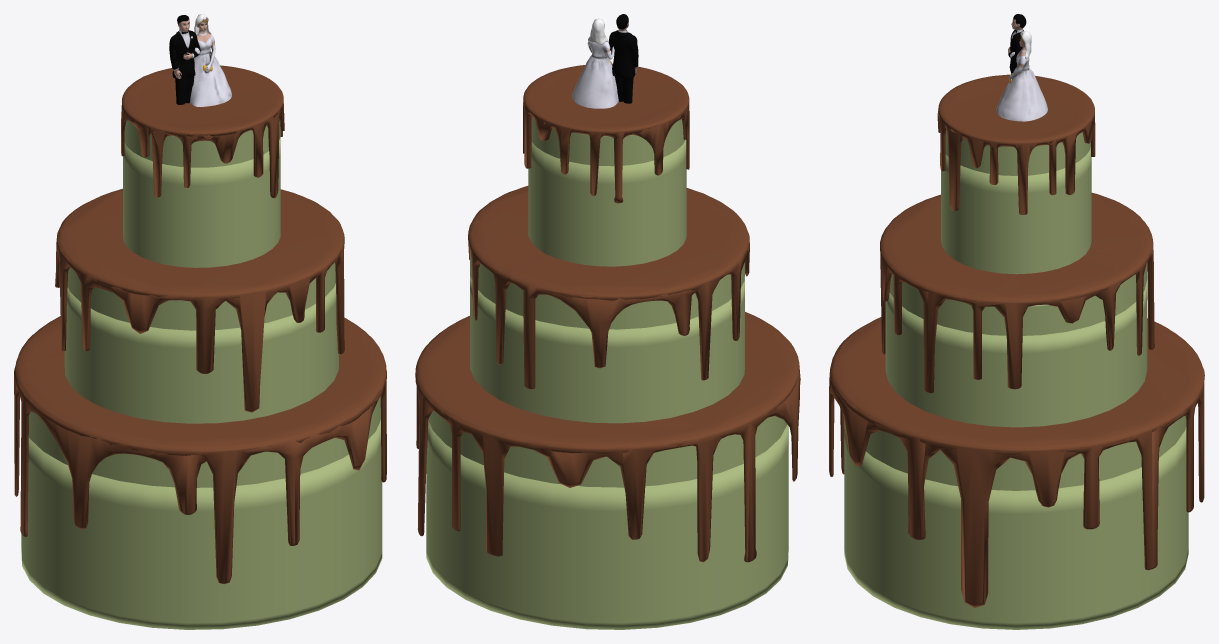
Rendered from 3-tier-pistage-ganache-bridegroom.glb.
3 renders of one model, left to right at view 1: azimuth 30°, elevation 25°; view 2: azimuth 150°, elevation 25°; view 3: azimuth 270°, elevation 25°, orthographic. The views are drawn at different scales.
Parts seen in each view (by area): view 1: Cylinder.022, tHE ICING.005, Cylinder.014, tHE ICING.002, Cylinder.021, tHE ICING.001, 13501_Cake_Topper_Bride_Groom_v1_L1.002; view 2: Cylinder.022, tHE ICING.005, Cylinder.014, tHE ICING.002, Cylinder.021, tHE ICING.001, 13501_Cake_Topper_Bride_Groom_v1_L1.002; view 3: Cylinder.022, tHE ICING.005, Cylinder.014, tHE ICING.002, Cylinder.021, tHE ICING.001, 13501_Cake_Topper_Bride_Groom_v1_L1.002.
Boxes of the visible parts, left/top/right/bottom form: Cylinder.022: left=21, top=396, right=382, bottom=629; tHE ICING.005: left=14, top=316, right=386, bottom=584; Cylinder.014: left=64, top=262, right=338, bottom=423; tHE ICING.002: left=55, top=188, right=344, bottom=412; Cylinder.021: left=123, top=119, right=280, bottom=267; tHE ICING.001: left=121, top=65, right=284, bottom=198; 13501_Cake_Topper_Bride_Groom_v1_L1.002: left=169, top=14, right=231, bottom=106; Cylinder.022: left=426, top=411, right=788, bottom=629; tHE ICING.005: left=415, top=312, right=800, bottom=562; Cylinder.014: left=470, top=249, right=744, bottom=423; tHE ICING.002: left=468, top=186, right=749, bottom=389; Cylinder.021: left=528, top=116, right=686, bottom=266; tHE ICING.001: left=523, top=64, right=689, bottom=203; 13501_Cake_Topper_Bride_Groom_v1_L1.002: left=572, top=14, right=638, bottom=108; Cylinder.022: left=844, top=416, right=1188, bottom=629; tHE ICING.005: left=829, top=317, right=1204, bottom=607; Cylinder.014: left=885, top=262, right=1147, bottom=427; tHE ICING.002: left=880, top=192, right=1154, bottom=393; Cylinder.021: left=941, top=130, right=1091, bottom=274; tHE ICING.001: left=937, top=74, right=1095, bottom=214; 13501_Cake_Topper_Bride_Groom_v1_L1.002: left=996, top=14, right=1047, bottom=121.
Bounding box in the file's own units: 4.33 × 6.91 × 4.43.
Materials: 3 (1 with a texture image).
